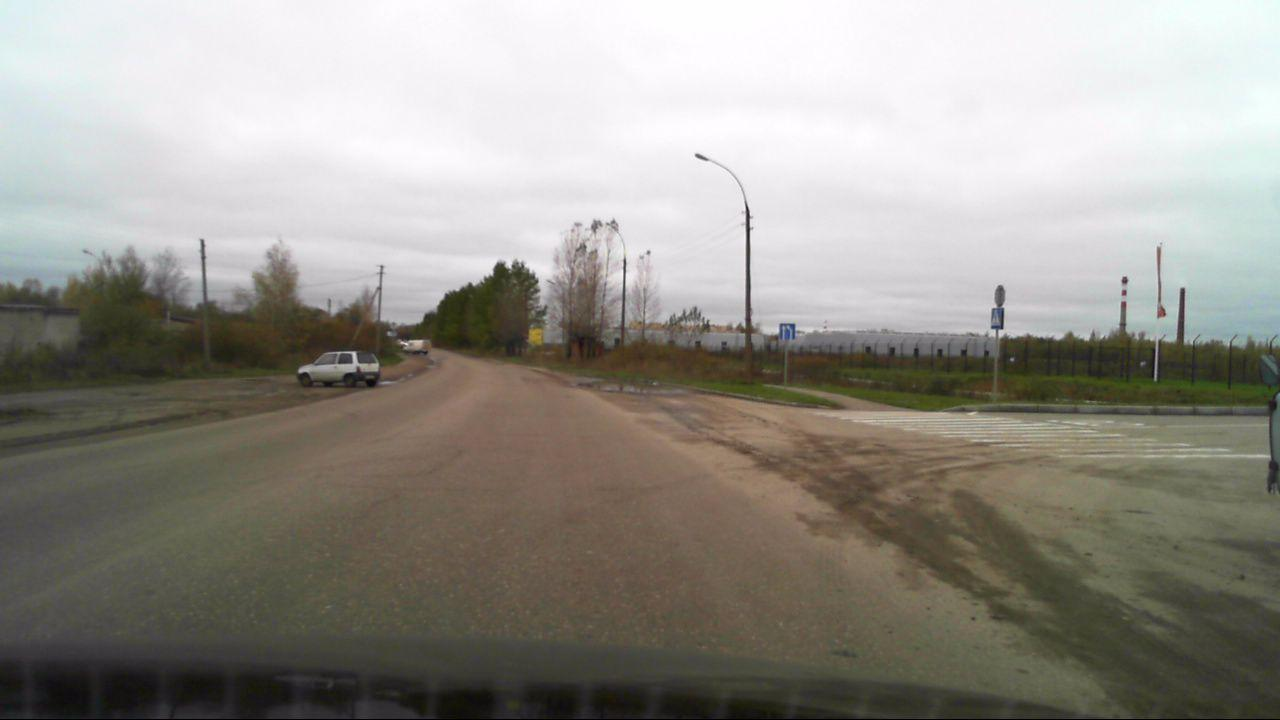5_15_5: (779, 323, 795, 340)
5_19_2: (990, 308, 1004, 329)
